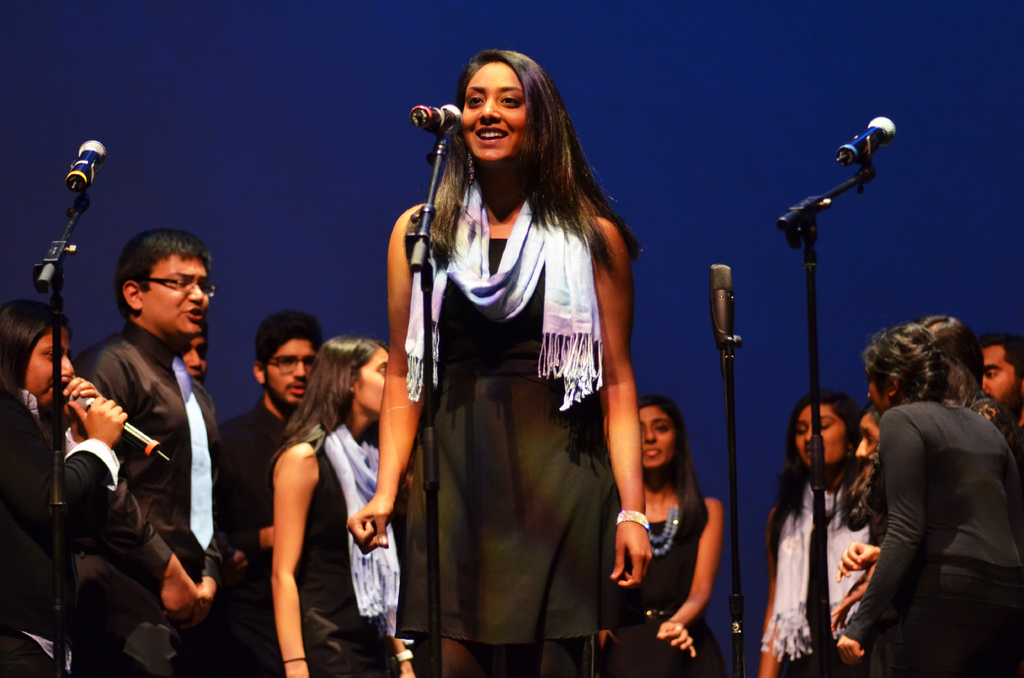face: (145, 249, 209, 334)
